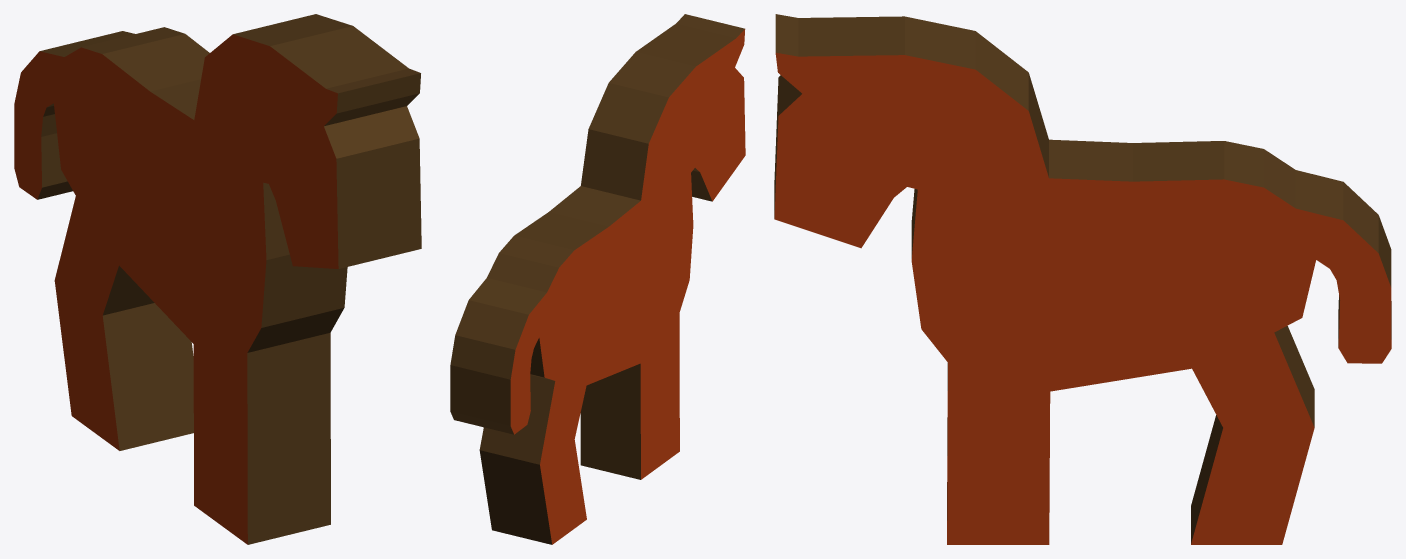
File: Horse.fbx
3 views of the same model, side by side, from view 1: azimuth 30°, elevation 25°; view 2: azimuth 150°, elevation 25°; view 3: azimuth 270°, elevation 25° (orthographic). The views are drawn at different scales.
Parts seen in each view (by area): view 1: Horse; view 2: Horse; view 3: Horse.
Boxes of the visible parts, left/top/right/bottom form: Horse: left=14, top=14, right=421, bottom=544; Horse: left=450, top=14, right=745, bottom=544; Horse: left=774, top=14, right=1391, bottom=544.
Bounding box in the file's own units: 0.1876 × 1.12 × 1.27.
